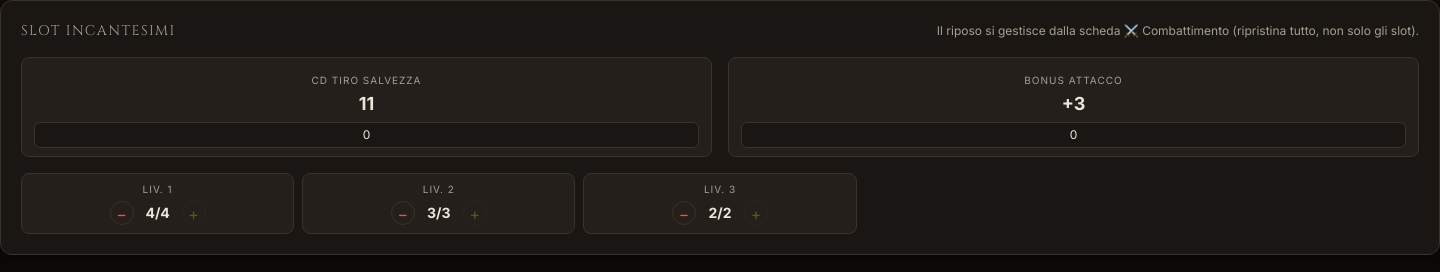
SpellSlotsSection › CD tiro salvezza e Bonus attacco degli incantesimi sono editabili e si sommano al calcolo RAW
This screenshot has width=1440, height=272.
Expected: the text "11" is shown, [359,93,374,114]
Replace the text in the field named "Bonus extra alla CD tiro salvezza degli incantesimi" with "2" at coordinates (366, 135), box [34,122,699,148]
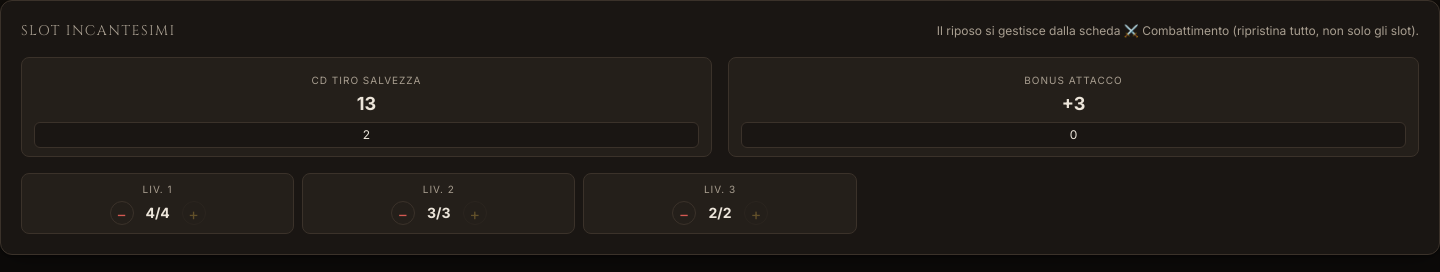
Result: the text "13" is shown at [357,93,376,114]
Replace the text in the field named "Bonus extra al bonus di attacco degli incantesimi" with "1" at coordinates (1074, 135), box [741,122,1406,148]
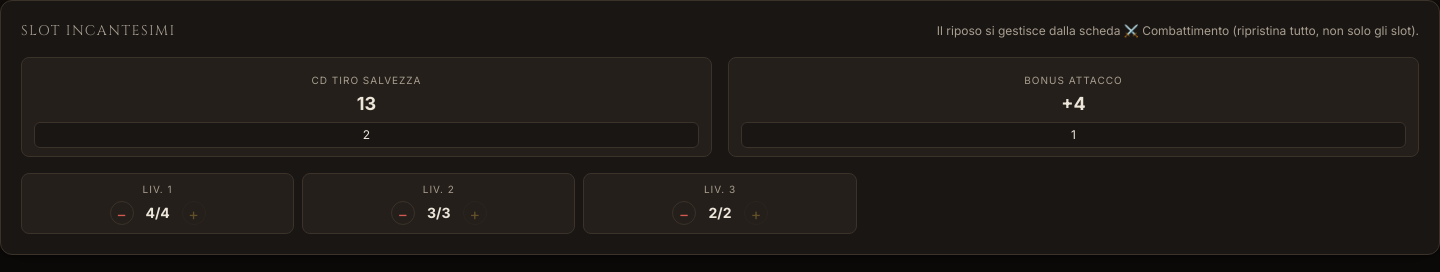
Result: the text "+4" is shown at [1061,93,1086,114]
